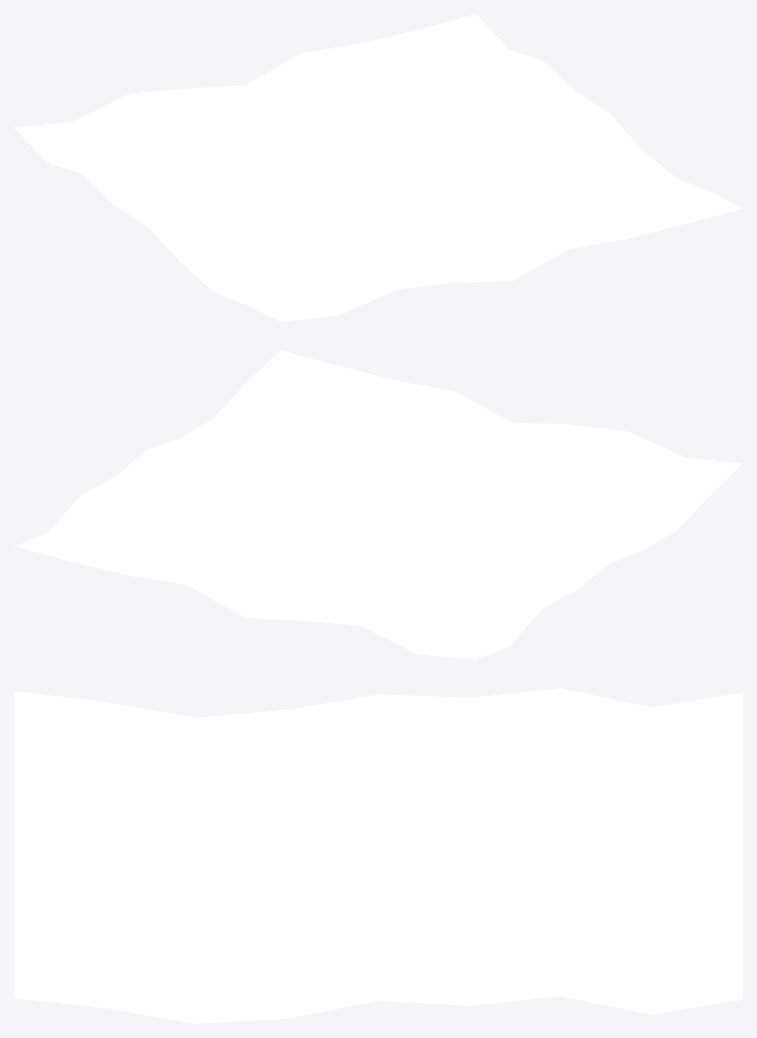
The model's file is Ground.glb.
3 renders of one model, top to bottom at view 1: azimuth 30°, elevation 25°; view 2: azimuth 150°, elevation 25°; view 3: azimuth 270°, elevation 25°, orthographic. The views are drawn at different scales.
Parts seen in each view (by area): view 1: Plane; view 2: Plane; view 3: Plane.
Part boxes in pixels (left/top/right/bottom): Plane: left=14, top=14, right=742, bottom=321; Plane: left=14, top=350, right=742, bottom=659; Plane: left=14, top=688, right=742, bottom=1023.
Bounding box in the file's own units: 40.4 × 2.21 × 40.4.
